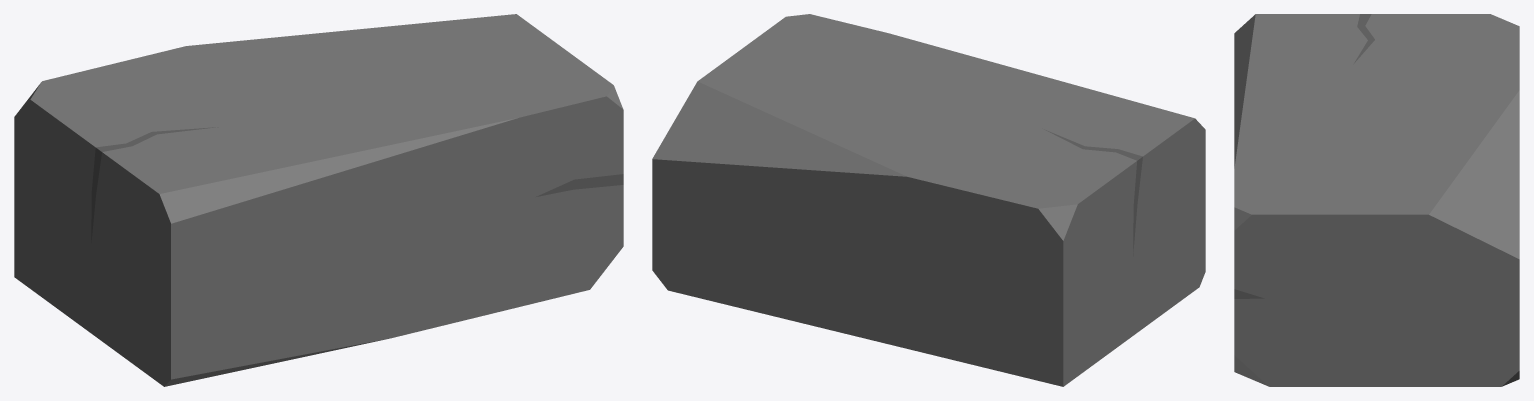
The model's file is Brick_04.fbx.
3 views of the same model, side by side, from view 1: azimuth 30°, elevation 25°; view 2: azimuth 150°, elevation 25°; view 3: azimuth 270°, elevation 25° (orthographic). The views are drawn at different scales.
Parts seen in each view (by area): view 1: Brick_04_LOD0; view 2: Brick_04_LOD0; view 3: Brick_04_LOD0.
Boxes of the visible parts, x1,y1,x2,y2 form: Brick_04_LOD0: (14, 14, 623, 386); Brick_04_LOD0: (652, 14, 1205, 386); Brick_04_LOD0: (1234, 14, 1519, 386).
Size of what is drawn, in the model's own units: 0.9497 by 0.3799 by 0.5698.
